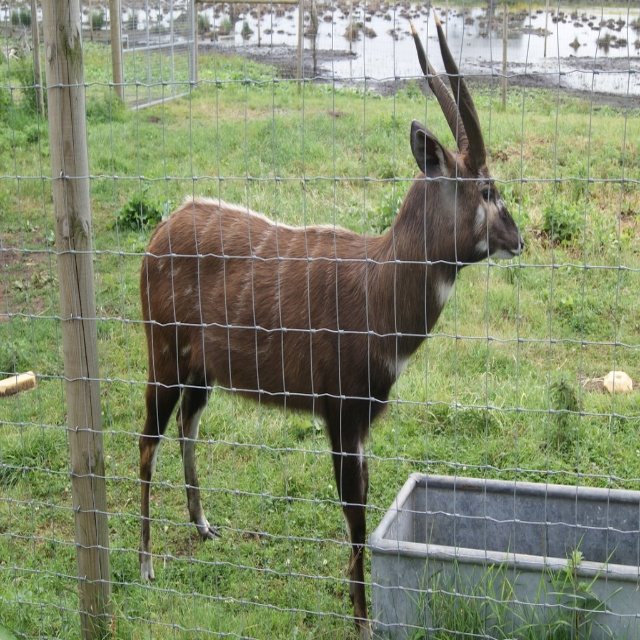Deer: (137, 3, 527, 638)
